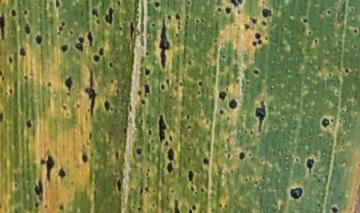tarspot: (158, 18, 173, 71), (84, 68, 98, 119), (254, 100, 268, 134), (157, 114, 168, 145), (45, 154, 56, 184), (33, 179, 45, 202), (103, 7, 115, 27), (289, 186, 304, 201), (63, 74, 74, 93), (85, 30, 96, 49), (128, 20, 137, 42), (305, 157, 316, 174), (114, 178, 124, 194), (166, 146, 176, 162), (56, 21, 66, 36), (1, 12, 6, 41), (102, 99, 112, 113), (143, 82, 152, 97), (248, 14, 259, 26), (261, 7, 273, 18), (34, 33, 44, 46), (74, 42, 85, 53), (57, 167, 67, 179), (173, 198, 181, 213), (187, 168, 195, 183), (228, 98, 238, 110), (80, 152, 89, 165), (166, 162, 175, 175), (241, 22, 252, 32), (23, 23, 32, 35), (18, 46, 27, 58), (321, 117, 330, 129), (24, 119, 34, 129), (59, 43, 69, 53), (91, 53, 101, 63), (143, 66, 152, 77), (218, 90, 227, 101), (91, 7, 99, 19), (97, 46, 105, 57), (53, 1, 63, 9), (7, 55, 15, 65), (238, 151, 246, 161), (150, 20, 158, 30), (224, 5, 232, 15), (10, 8, 17, 19), (113, 150, 120, 161), (22, 8, 30, 17), (202, 157, 210, 166), (120, 87, 128, 96), (158, 82, 166, 91), (152, 1, 161, 9), (197, 79, 205, 88), (254, 32, 263, 40), (252, 68, 261, 76), (32, 201, 42, 208), (123, 126, 129, 137), (77, 36, 85, 44), (135, 147, 143, 155), (139, 98, 147, 106), (251, 40, 259, 48), (22, 74, 31, 81), (60, 103, 69, 110), (107, 61, 114, 70), (147, 128, 154, 137), (199, 185, 206, 194), (186, 155, 193, 164), (164, 78, 171, 87), (144, 50, 151, 59), (186, 59, 195, 66), (302, 16, 309, 25), (330, 206, 339, 213), (138, 186, 144, 196), (128, 103, 134, 113), (228, 1, 238, 7), (258, 196, 264, 206), (39, 158, 47, 165), (191, 203, 198, 211), (218, 108, 225, 116), (216, 6, 224, 13), (235, 8, 242, 16), (343, 67, 351, 74), (325, 8, 332, 16), (352, 27, 360, 34), (59, 203, 65, 212), (87, 131, 93, 140), (166, 13, 172, 22), (107, 135, 113, 144), (1, 111, 5, 124), (46, 81, 53, 88), (43, 203, 50, 210), (136, 89, 143, 96), (253, 179, 260, 186), (315, 201, 322, 208), (13, 182, 19, 190), (136, 206, 144, 212), (115, 1, 123, 7), (226, 135, 232, 143), (114, 88, 120, 96), (175, 13, 181, 21), (69, 180, 75, 188), (203, 61, 209, 69), (63, 91, 72, 96), (75, 102, 81, 109), (89, 151, 95, 158), (144, 186, 150, 193), (95, 18, 101, 25), (164, 140, 170, 147), (167, 134, 173, 141), (186, 124, 193, 130), (173, 85, 179, 92), (146, 34, 153, 40), (261, 20, 268, 26), (235, 78, 241, 85), (205, 118, 211, 125), (313, 38, 319, 45), (258, 38, 263, 46), (8, 88, 14, 94), (68, 29, 74, 35), (117, 26, 123, 32), (149, 138, 155, 144), (150, 145, 156, 151), (151, 202, 157, 208), (189, 185, 195, 191), (185, 114, 191, 120), (226, 153, 232, 159), (229, 168, 235, 174), (194, 18, 200, 24), (196, 90, 202, 96), (221, 54, 227, 60), (249, 129, 255, 135), (110, 105, 115, 112), (139, 118, 144, 125), (185, 1, 192, 6), (264, 35, 269, 42), (351, 44, 358, 49), (316, 177, 321, 184), (238, 1, 246, 5), (170, 188, 175, 194), (217, 203, 223, 208), (224, 203, 229, 209), (243, 176, 248, 182), (248, 175, 253, 181), (121, 43, 126, 49), (110, 78, 115, 84), (179, 81, 184, 87), (200, 17, 206, 22), (175, 32, 180, 38), (248, 152, 253, 158), (227, 115, 232, 121), (245, 80, 251, 85), (198, 109, 203, 115), (295, 157, 300, 163), (260, 158, 265, 164), (280, 116, 285, 122), (327, 72, 333, 77), (295, 72, 300, 78), (284, 23, 289, 29), (4, 90, 8, 97), (123, 17, 128, 22), (146, 167, 151, 172), (145, 172, 150, 177), (151, 188, 156, 193), (188, 208, 193, 213), (307, 30, 312, 35), (176, 26, 182, 30), (194, 190, 198, 195), (176, 21, 181, 25), (1, 76, 5, 80), (1, 68, 2, 77)
